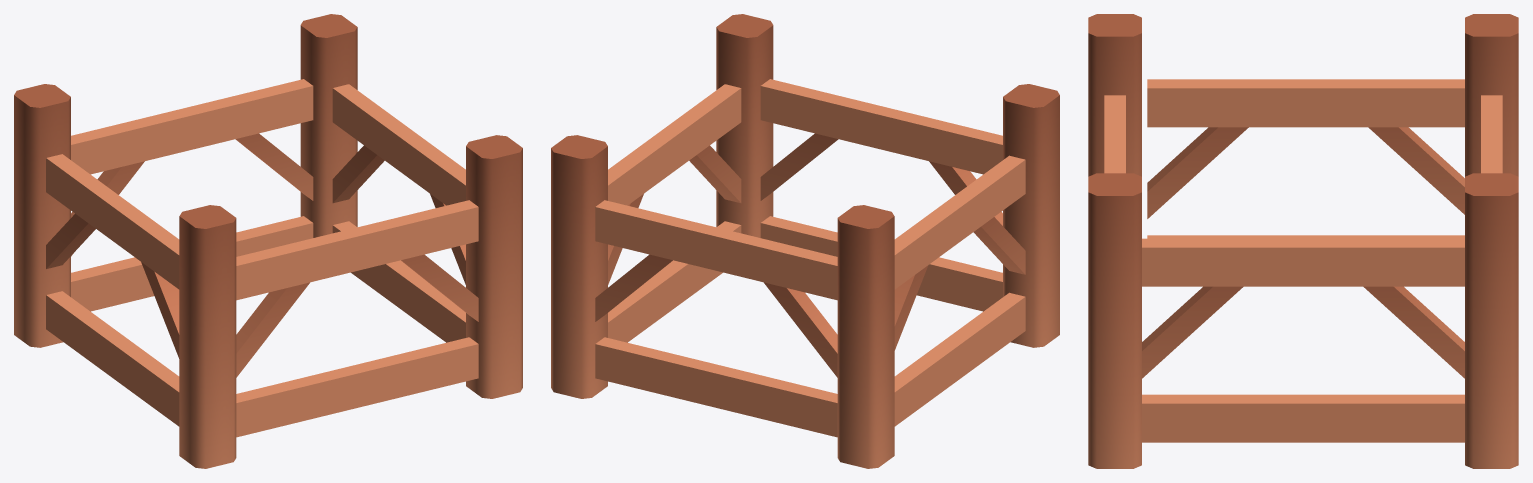
File: structure-wood.glb
3 views of the same model, side by side, from view 1: azimuth 30°, elevation 25°; view 2: azimuth 150°, elevation 25°; view 3: azimuth 270°, elevation 25° (orthographic). The views are drawn at different scales.
Parts seen in each view (by area): view 1: structure-wood; view 2: structure-wood; view 3: structure-wood.
Part boxes in pixels (x1,y1,x2,y2): structure-wood: (14,14,522,468); structure-wood: (551,14,1059,468); structure-wood: (1088,14,1518,468).
Size of the model in its own units: 1 by 0.7 by 1.
Materials: 1 (1 with a texture image).
